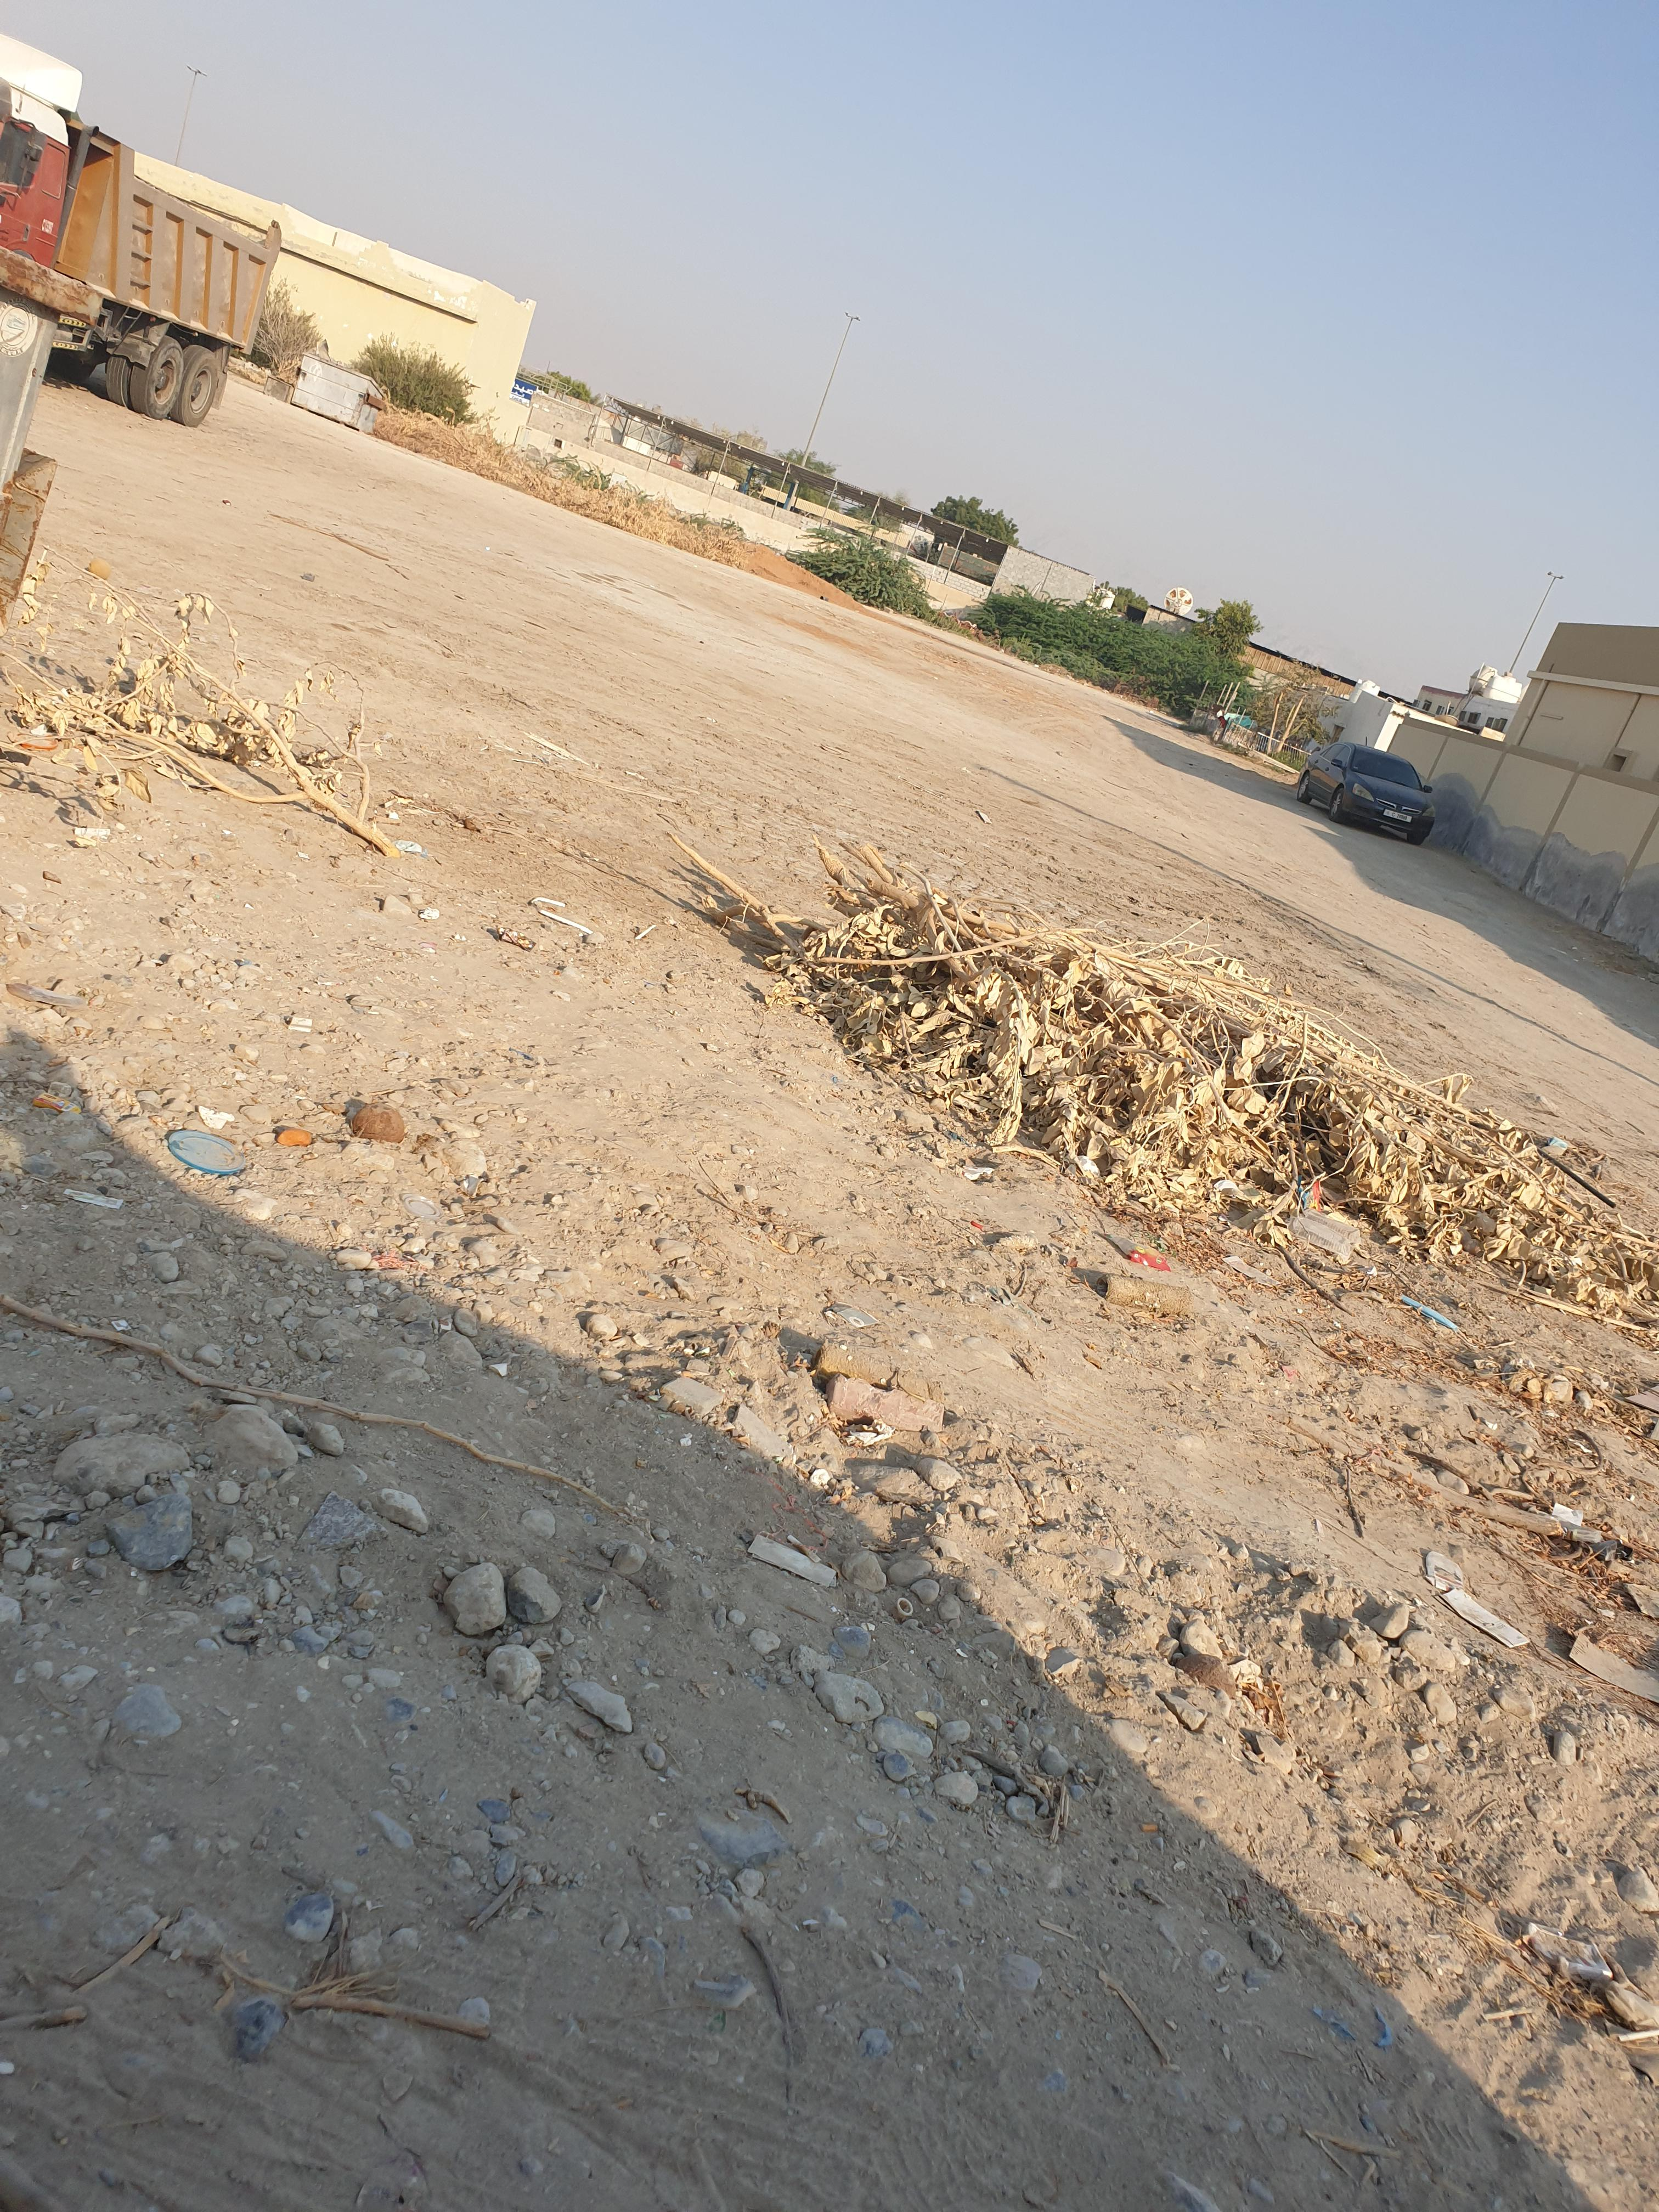fallen_trees: (701, 789, 1659, 1360), (772, 860, 1626, 1299), (699, 726, 1443, 1148), (641, 876, 1535, 1226), (19, 568, 532, 960), (70, 594, 446, 902), (70, 538, 392, 862), (159, 688, 474, 902)
